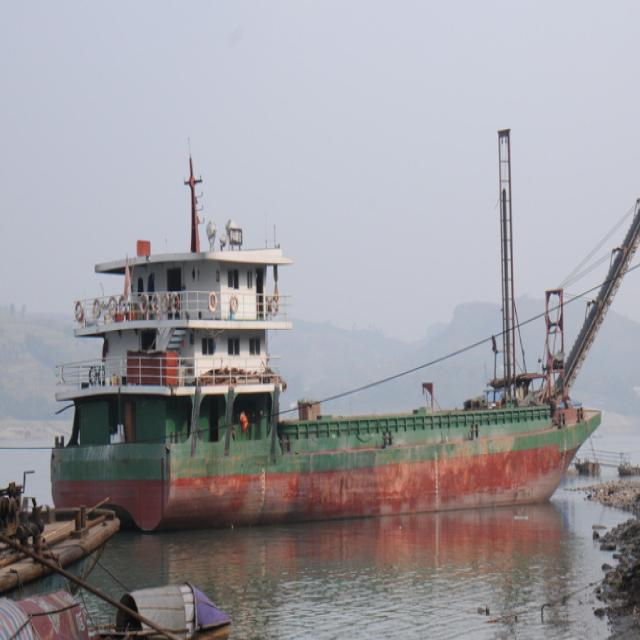fishing boat: (58, 128, 640, 530)
